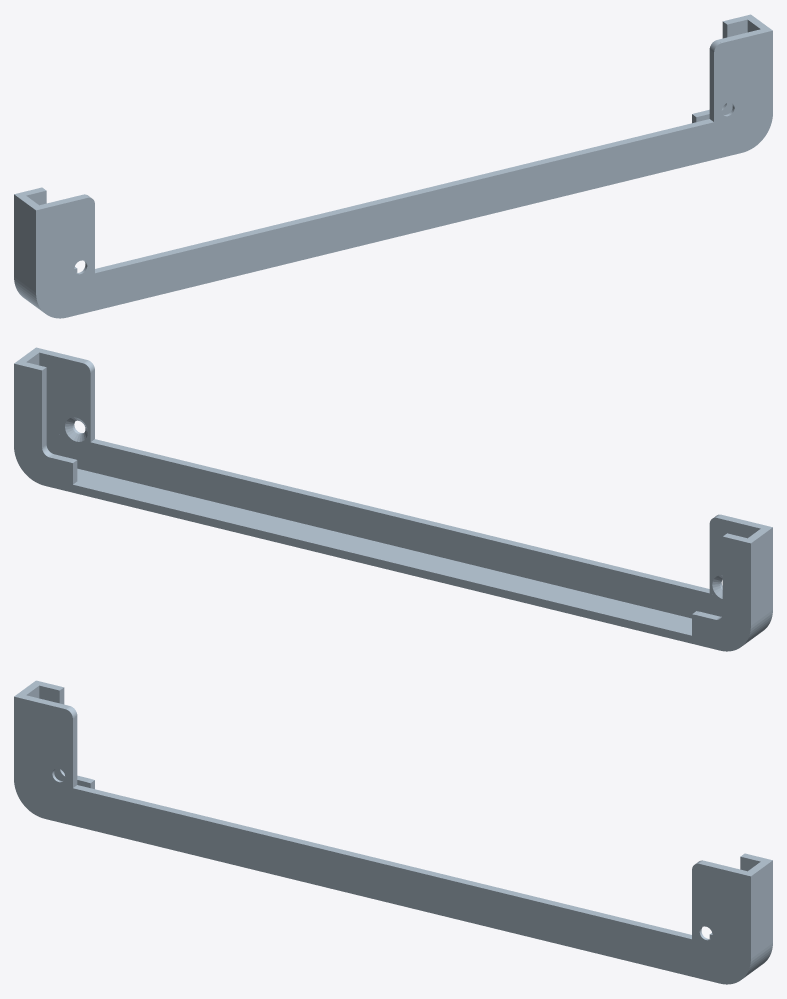
File: ipad-wall-mount-34d1d4d4.glb
The picture shows the model from 3 angles, top to bottom: view 1: azimuth 30°, elevation 25°; view 2: azimuth 150°, elevation 25°; view 3: azimuth 330°, elevation 25°; orthographic projection.
Visible parts, largest first — view 1: Full Bottom Remix v2; view 2: Full Bottom Remix v2; view 3: Full Bottom Remix v2.
Part boxes in pixels (<box>): Full Bottom Remix v2: <box>14,14,772,318</box>; Full Bottom Remix v2: <box>14,347,772,651</box>; Full Bottom Remix v2: <box>14,680,772,984</box>.
Size of the model in its own units: 2.5 by 0.372 by 0.1296.
